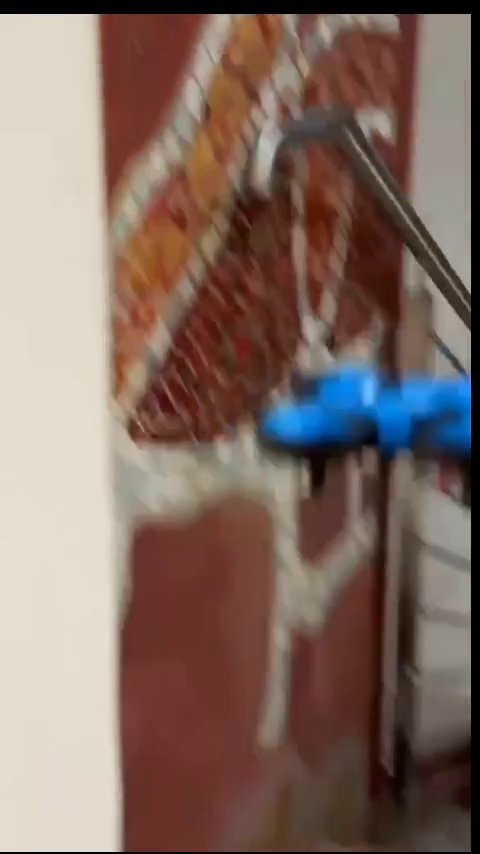drone: (274, 364, 470, 506)
